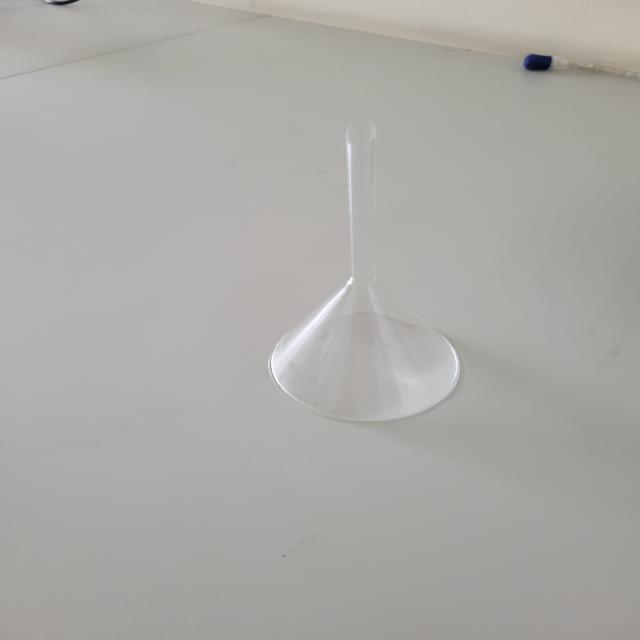Funnel: (212, 96, 480, 438)
